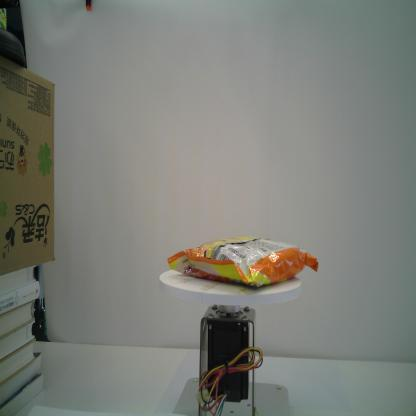Instant Noodles: (167, 234, 319, 289)
